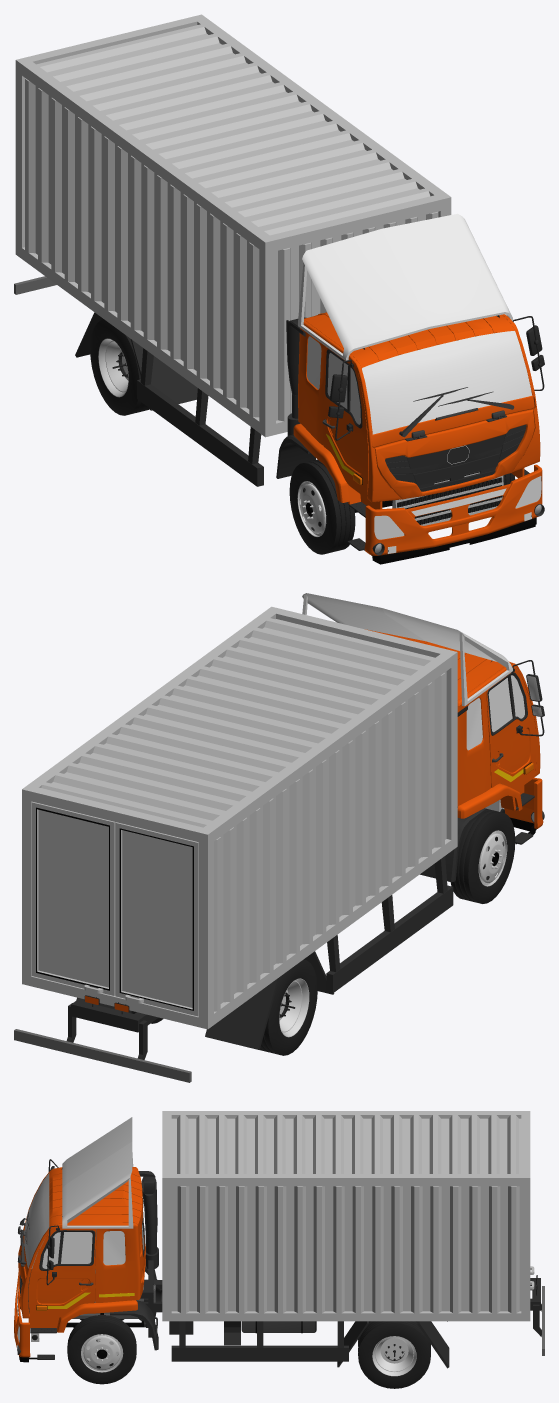
The model's file is Eicher Truck.fbx.
The picture shows the model from 3 angles, top to bottom: view 1: azimuth 30°, elevation 25°; view 2: azimuth 150°, elevation 25°; view 3: azimuth 270°, elevation 25°; orthographic projection. The views are drawn at different scales.
Parts seen in each view (by area): view 1: Cube.002, Front Hood.005, Cube.006, Back.003, Circle.005, Door.002, Cube.018, Circle.009, headlight.002, Door.001, Door; view 2: Cube.002, Cube.003, Cube.005, Back.003, Cube.006, Cube.018, Circle.005, Door.002, Circle.009, Front Hood.005, Door.001, Front door.004; view 3: Cube.002, Front Hood.005, Back.003, Cube.006, Circle.007, Door, Circle.003, Cube.018, Fuel tank, Door.004, Front door.002.
Part boxes in pixels (box(x1,y1,x2,y2)): Cube.002: box(15, 14, 451, 486); Front Hood.005: box(303, 312, 544, 564); Cube.006: box(298, 213, 512, 360); Back.003: box(276, 328, 529, 550); Circle.005: box(289, 459, 355, 554); Door.002: box(323, 347, 368, 498); Cube.018: box(14, 276, 503, 525); Circle.009: box(90, 319, 149, 415); headlight.002: box(374, 476, 541, 539); Door.001: box(327, 353, 360, 424); Door: box(512, 316, 544, 409); Cube.002: box(22, 606, 457, 1049); Cube.003: box(31, 801, 115, 995); Cube.005: box(115, 822, 198, 1016); Back.003: box(420, 691, 534, 882); Cube.006: box(302, 593, 512, 706); Cube.018: box(14, 706, 504, 1082); Circle.005: box(450, 808, 515, 903); Door.002: box(486, 660, 544, 789); Circle.009: box(260, 959, 317, 1055); Front Hood.005: box(365, 629, 544, 844); Door.001: box(488, 675, 524, 732); Front door.004: box(466, 698, 482, 750); Cube.002: box(162, 1111, 530, 1368); Front Hood.005: box(14, 1167, 142, 1362); Back.003: box(28, 1175, 158, 1359); Cube.006: box(62, 1117, 133, 1228); Circle.007: box(358, 1321, 430, 1388); Door: box(28, 1225, 95, 1318); Circle.003: box(67, 1315, 136, 1384); Cube.018: box(31, 1171, 544, 1355); Fuel tank: box(224, 1321, 316, 1345); Door.004: box(42, 1232, 92, 1268); Front door.002: box(103, 1231, 125, 1265).
Bounding box in the file's own units: 232 × 300 × 671.
